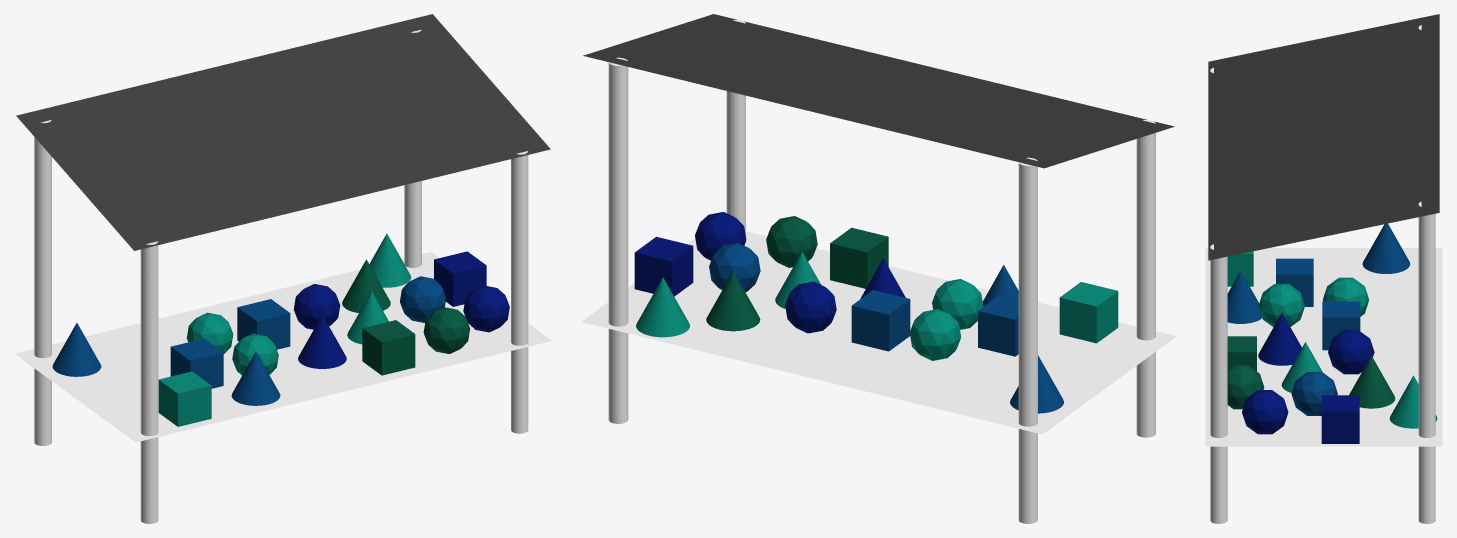
The model's file is puesto3.glb.
3 renders of one model, left to right at view 1: azimuth 30°, elevation 25°; view 2: azimuth 150°, elevation 25°; view 3: azimuth 270°, elevation 25°, orthographic. The views are drawn at different scales.
Parts seen in each view (by area): view 1: Cylinder, Cube, Cube.004, Cube.002, Cube.003, Cube.001, Icosphere.001, Icosphere.002, Icosphere.004, Icosphere, Cone, Cone.005 (+6 smaller); view 2: Cylinder, Cube, Cube.003, Cube.002, Cube.004, Cube.001, Icosphere.003, Icosphere, Icosphere.001, Cone.002, Cone.003, Icosphere.004 (+6 smaller); view 3: Cylinder, Cube.002, Icosphere.002, Icosphere, Icosphere.005, Cone, Icosphere.004, Cube.003, Cone.001, Cone.003, Cube.001, Cone.005 (+6 smaller).
Part boxes in pixels (<box>): Cylinder: <box>15,14,551,523</box>; Cube: <box>158,371,211,426</box>; Cube.004: <box>362,320,415,375</box>; Cube.002: <box>434,251,486,306</box>; Cube.003: <box>237,299,290,349</box>; Cube.001: <box>170,338,223,388</box>; Icosphere.001: <box>423,307,469,353</box>; Icosphere.002: <box>463,285,509,332</box>; Icosphere.004: <box>400,276,446,322</box>; Icosphere: <box>293,284,340,329</box>; Cone: <box>52,323,101,376</box>; Cone.005: <box>231,352,280,405</box>; Cylinder: <box>581,14,1176,523</box>; Cube: <box>1059,282,1118,343</box>; Cube.003: <box>851,290,910,351</box>; Cube.002: <box>634,236,693,296</box>; Cube.004: <box>830,227,888,288</box>; Cube.001: <box>978,295,1018,356</box>; Icosphere.003: <box>909,309,961,360</box>; Icosphere: <box>785,281,836,333</box>; Icosphere.001: <box>766,216,817,267</box>; Cone.002: <box>636,277,689,337</box>; Cone.003: <box>706,271,760,331</box>; Icosphere.004: <box>709,242,760,292</box>; Cylinder: <box>1205,14,1442,523</box>; Cube.002: <box>1321,395,1359,443</box>; Icosphere.002: <box>1242,390,1288,434</box>; Icosphere: <box>1328,330,1374,374</box>; Icosphere.005: <box>1258,284,1304,327</box>; Cone: <box>1362,223,1410,273</box>; Icosphere.004: <box>1291,372,1337,415</box>; Cube.003: <box>1322,301,1360,350</box>; Cone.001: <box>1258,313,1301,365</box>; Cone.003: <box>1349,355,1395,408</box>; Cube.001: <box>1276,258,1313,306</box>; Cone.005: <box>1227,271,1262,323</box>.
Size of what is drawn, in the model's own units: 54.71 by 41.03 by 27.58.
